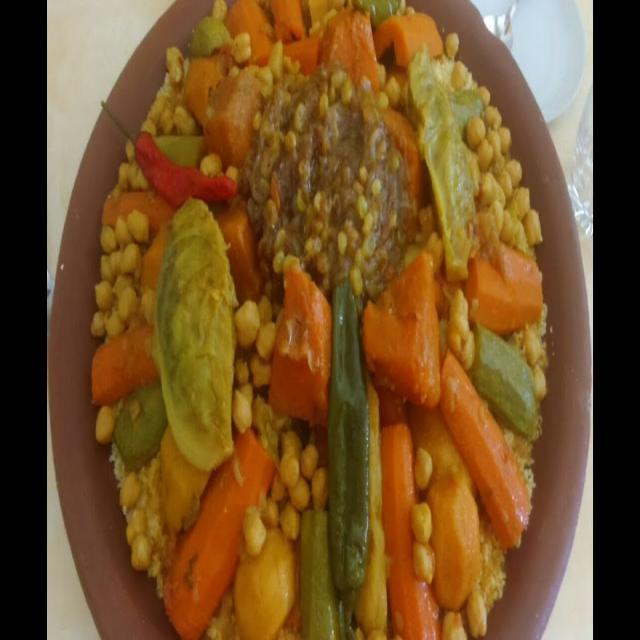Couscous: (94, 4, 546, 640)
